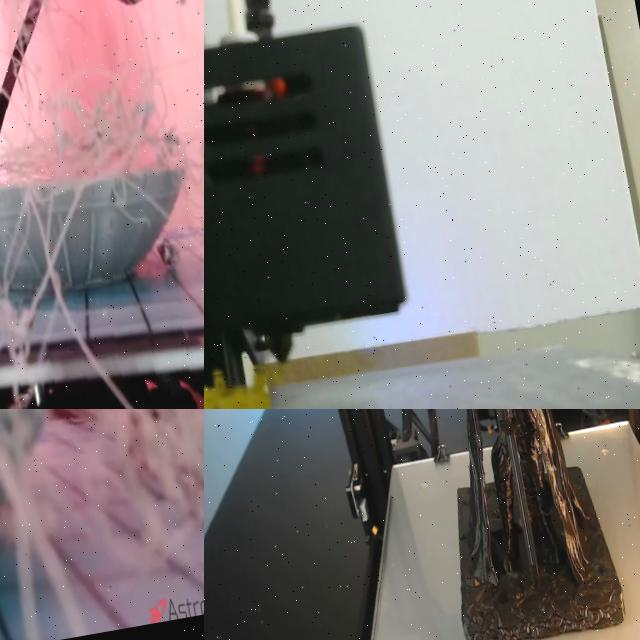spaghetti: (0, 0, 204, 409), (0, 409, 204, 640), (204, 373, 271, 409)
